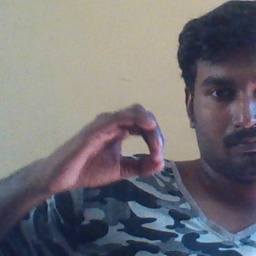O: (51, 102, 169, 191)
